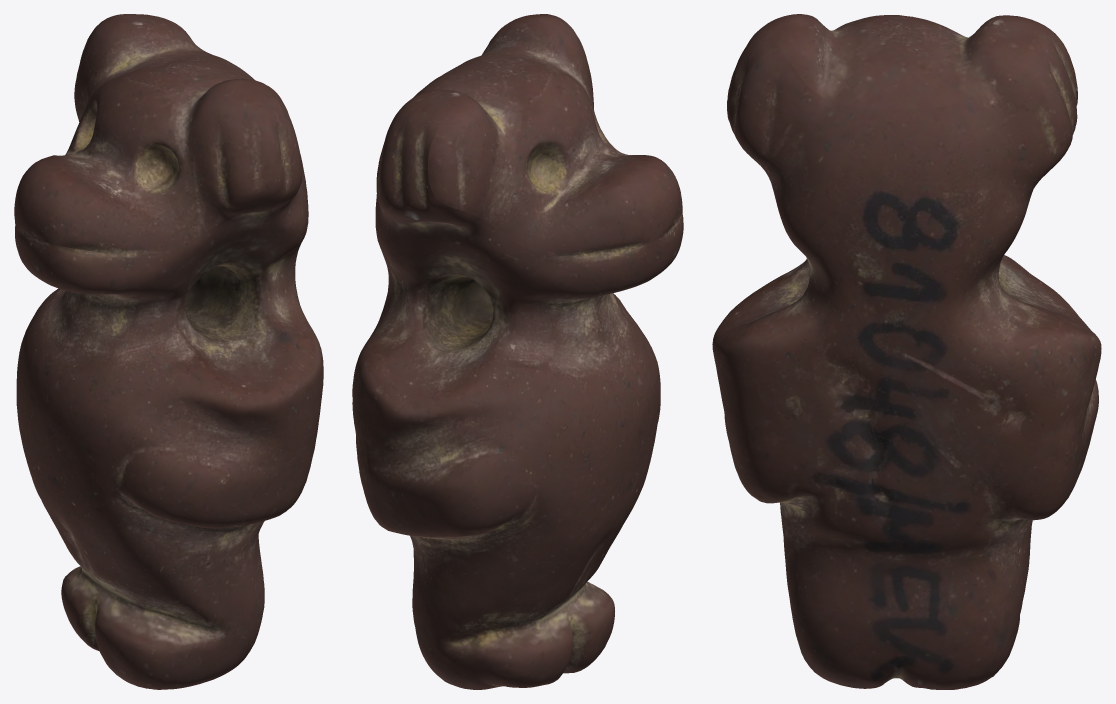
Rendered from tairona_culture_anthropomorphic_pendant.glb.
3 renders of one model, left to right at view 1: azimuth 30°, elevation 25°; view 2: azimuth 150°, elevation 25°; view 3: azimuth 270°, elevation 25°, orthographic. The views are drawn at different scales.
Visible parts, largest first — view 1: Object_4, Object_2, Object_3, Object_5; view 2: Object_4, Object_2, Object_3, Object_5; view 3: Object_3, Object_2, Object_4, Object_5.
Boxes of the visible parts, bbox=[...] form: Object_4: bbox=[15, 222, 288, 689]; Object_2: bbox=[14, 14, 286, 256]; Object_3: bbox=[109, 14, 323, 662]; Object_5: bbox=[185, 262, 271, 351]; Object_4: bbox=[366, 212, 683, 689]; Object_2: bbox=[404, 14, 682, 255]; Object_3: bbox=[352, 105, 508, 634]; Object_5: bbox=[409, 271, 497, 362]; Object_3: bbox=[713, 21, 1094, 689]; Object_2: bbox=[727, 14, 1076, 124]; Object_4: bbox=[712, 255, 1101, 685]; Object_5: bbox=[784, 267, 1026, 307].
Bounding box in the file's own units: 0.1537 × 0.3429 × 0.1808.
Materials: 1 (1 with a texture image).
